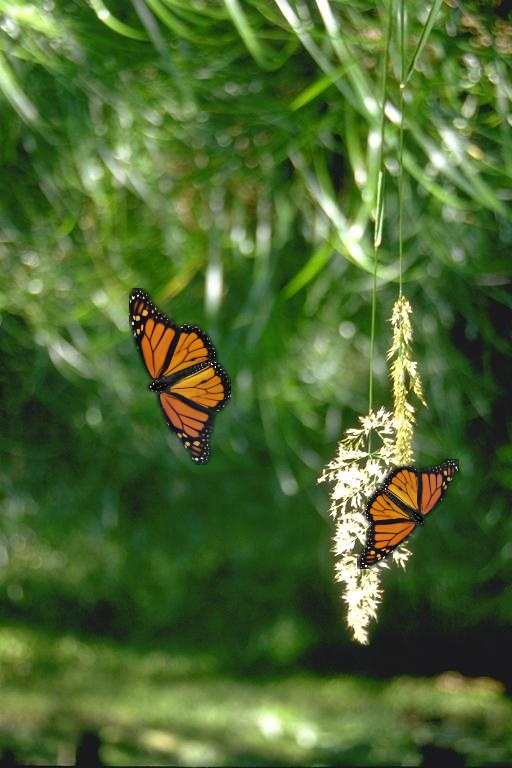danaus_plexippus: (129, 288, 231, 465), (357, 459, 459, 569)
